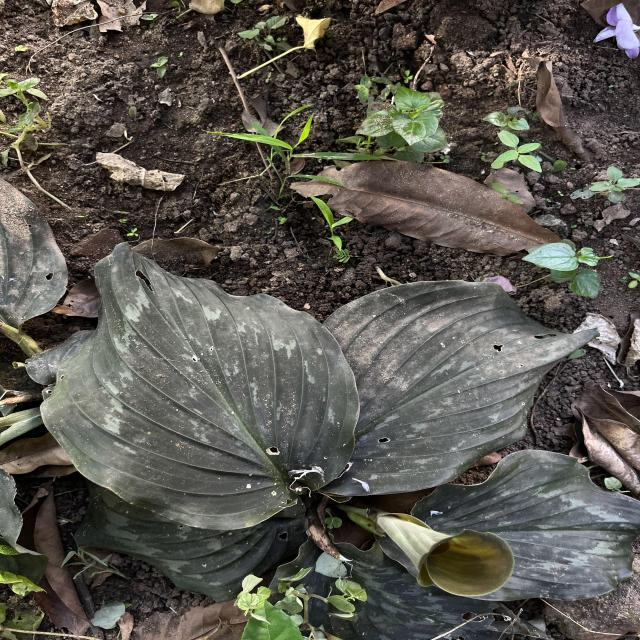Kaempferia galanga linn: (36, 241, 362, 534), (321, 277, 604, 499), (408, 447, 640, 602)
